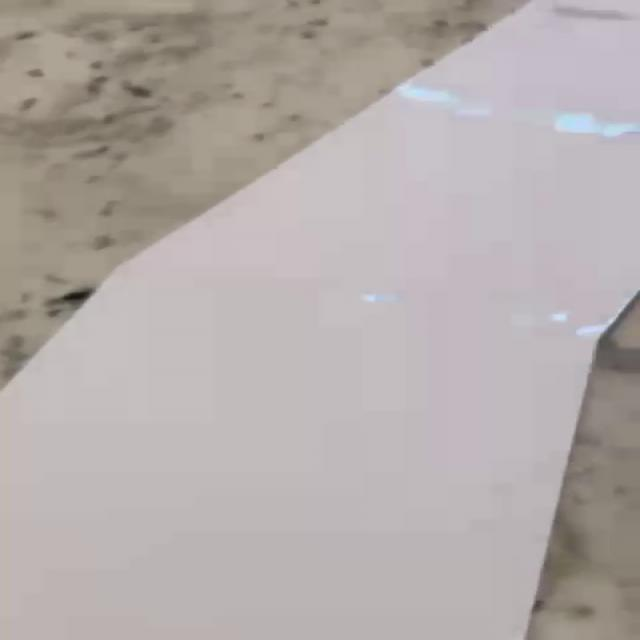road: (0, 0, 640, 640)
